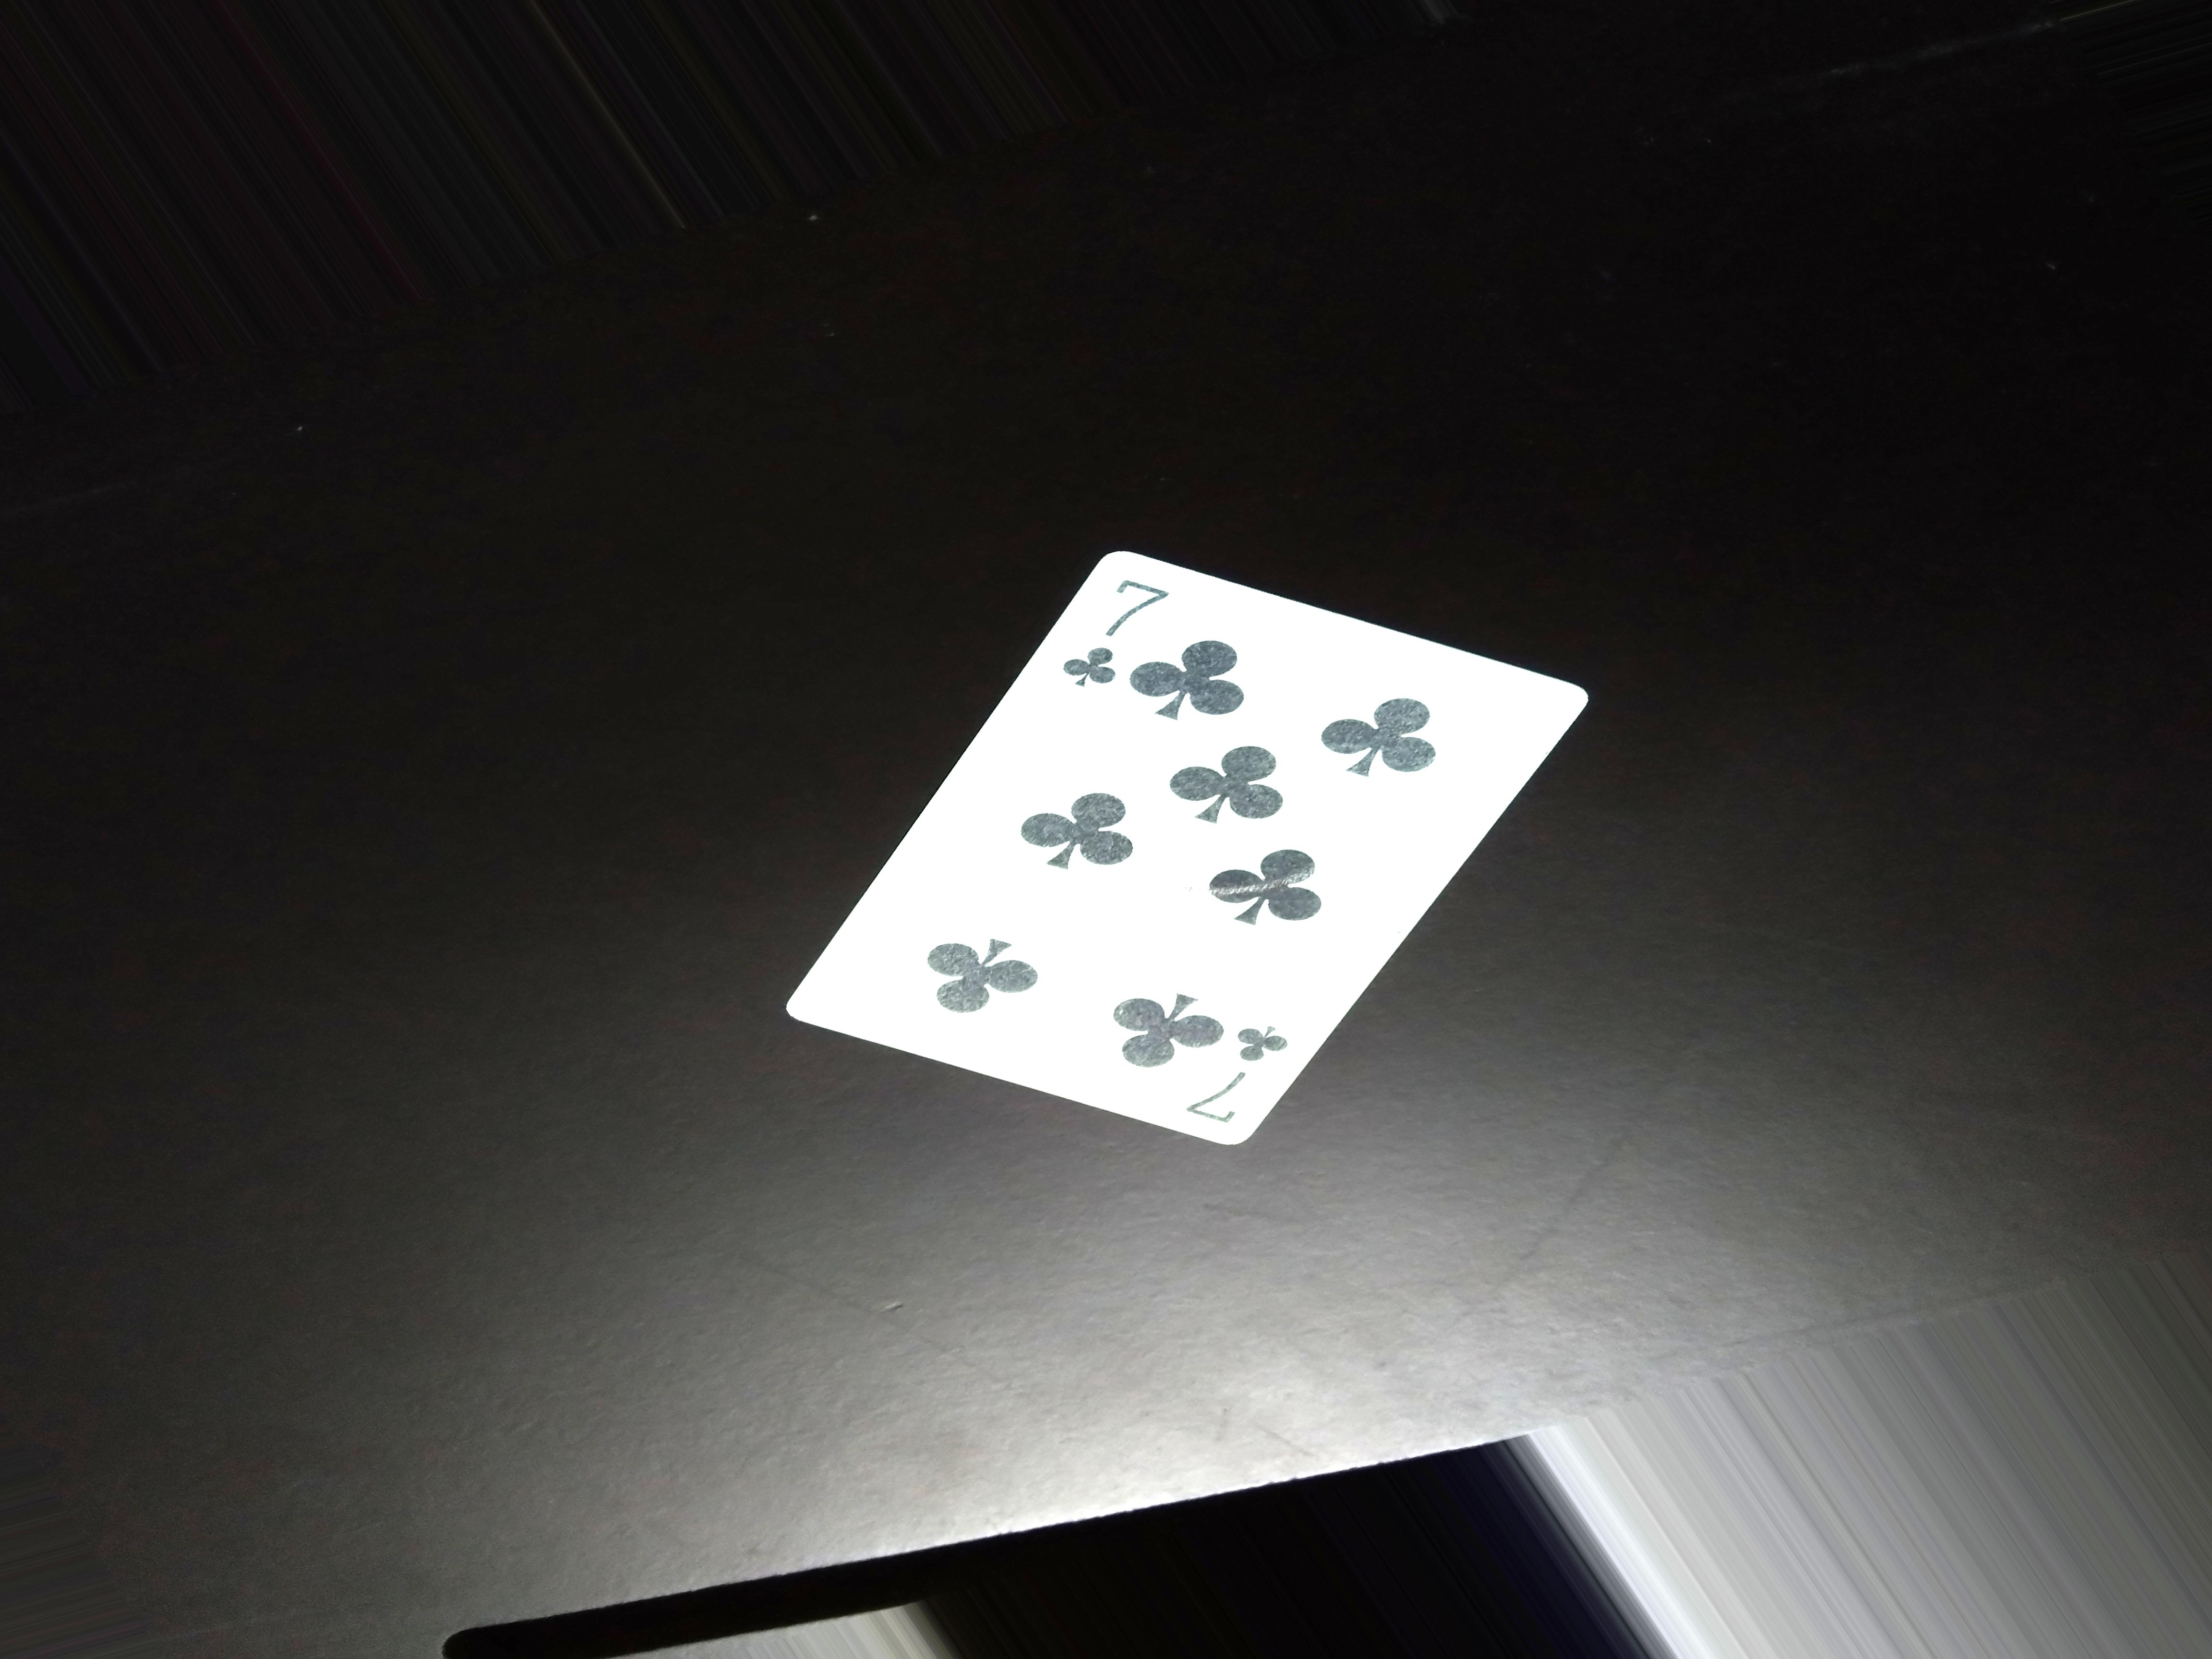7C: (1066, 572, 1174, 701)
